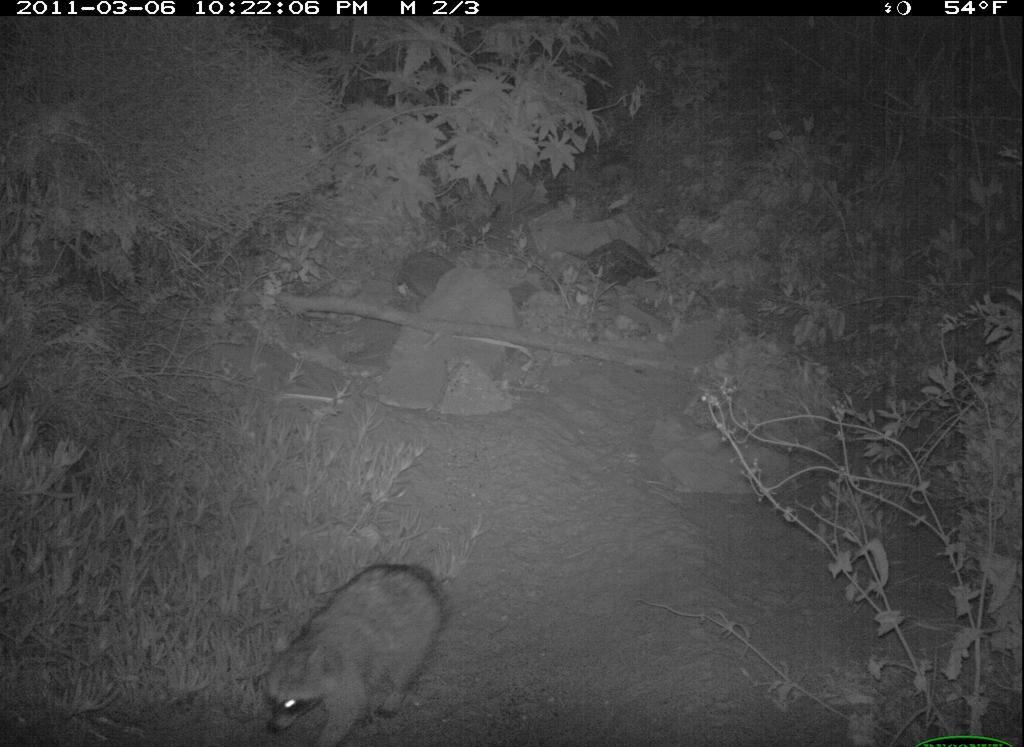raccoon: (258, 559, 457, 747)
